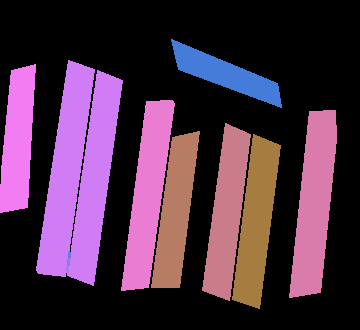parkingspot: (36, 60, 94, 276), (67, 70, 122, 285), (121, 100, 174, 290), (289, 110, 336, 297), (202, 123, 250, 300), (232, 134, 280, 308), (151, 131, 199, 287), (171, 39, 281, 107), (0, 64, 35, 212)
